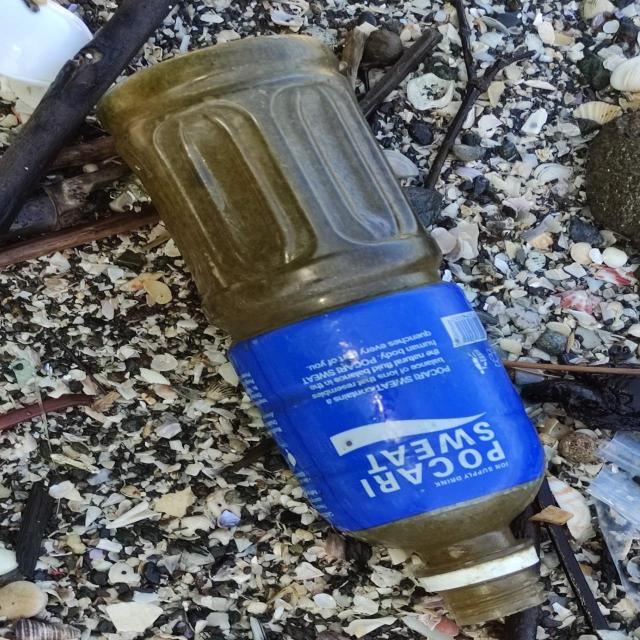plastic_waste: (97, 36, 551, 630)
